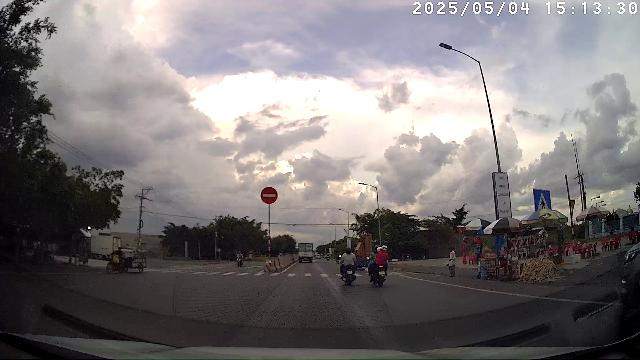102-cam-di-nguoc-chieu: (260, 186, 279, 204)
423a-duong-nguoi-di-bo-sang-ngang-1: (533, 189, 551, 211)
